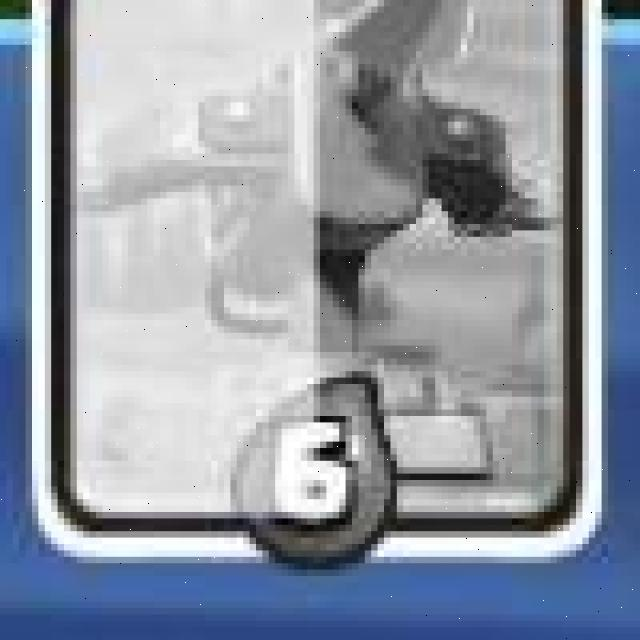X_Bow: (32, 0, 604, 563)
